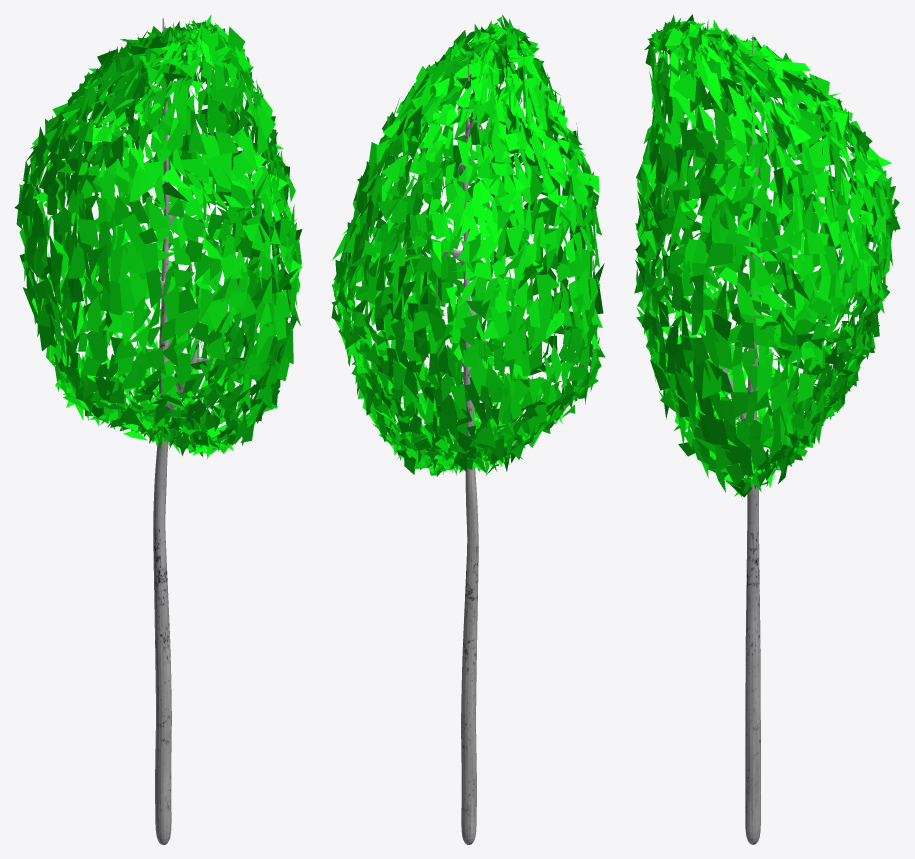
File: Leaves61.fbx
3 views of the same model, side by side, from view 1: azimuth 30°, elevation 25°; view 2: azimuth 150°, elevation 25°; view 3: azimuth 270°, elevation 25° (orthographic). The views are drawn at different scales.
Visible parts, largest first — view 1: Leaves61; view 2: Leaves61; view 3: Leaves61.
Boxes of the visible parts, box(x1,y1,x2,y2) form: Leaves61: box(14, 14, 302, 844); Leaves61: box(331, 14, 605, 844); Leaves61: box(634, 14, 900, 844).
Bounding box in the file's own units: 795 × 2636 × 768.
Materials: 2 (1 with a texture image).
